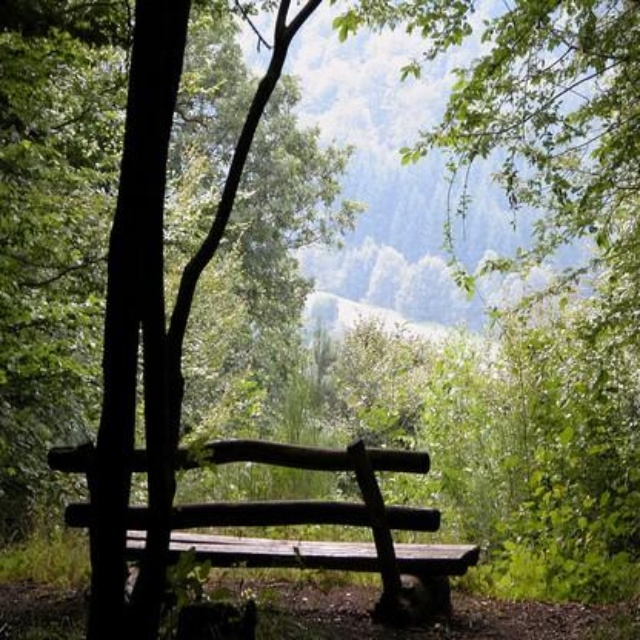obstacle: (46, 431, 497, 618)
